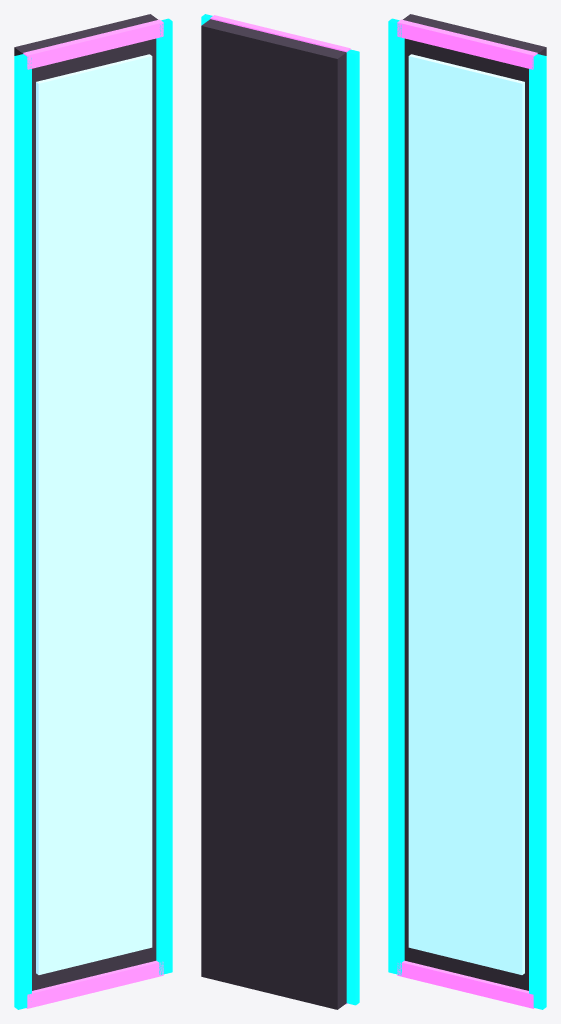
Rendered from SIGN_Neon_Vertical_LG.glb.
The picture shows the model from 3 angles, left to right: view 1: azimuth 30°, elevation 25°; view 2: azimuth 150°, elevation 25°; view 3: azimuth 330°, elevation 25°; orthographic projection.
Parts seen in each view (by area): view 1: SIGN_Neon_Vertical_LG; view 2: SIGN_Neon_Vertical_LG; view 3: SIGN_Neon_Vertical_LG.
Part boxes in pixels (<box>): SIGN_Neon_Vertical_LG: <box>14,14,172,1009</box>; SIGN_Neon_Vertical_LG: <box>201,14,359,1009</box>; SIGN_Neon_Vertical_LG: <box>388,14,546,1009</box>.
Size of the model in its own units: 1.36 by 8.02 by 0.2001.
